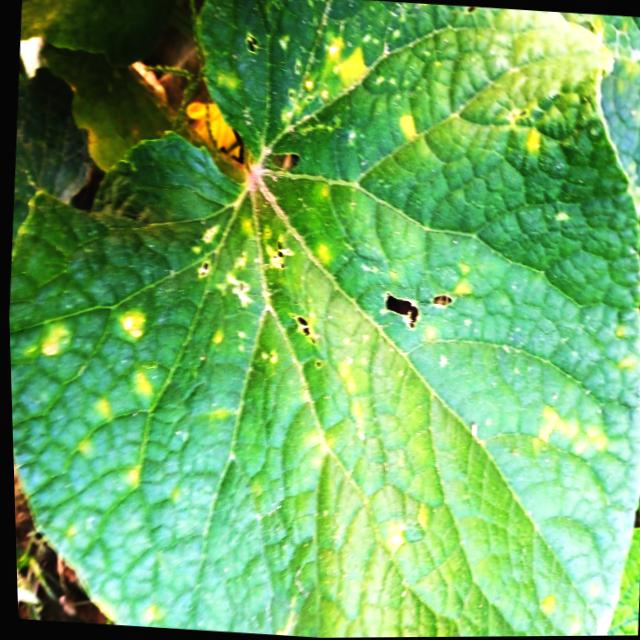Downy-Mildew: (7, 0, 640, 638)
